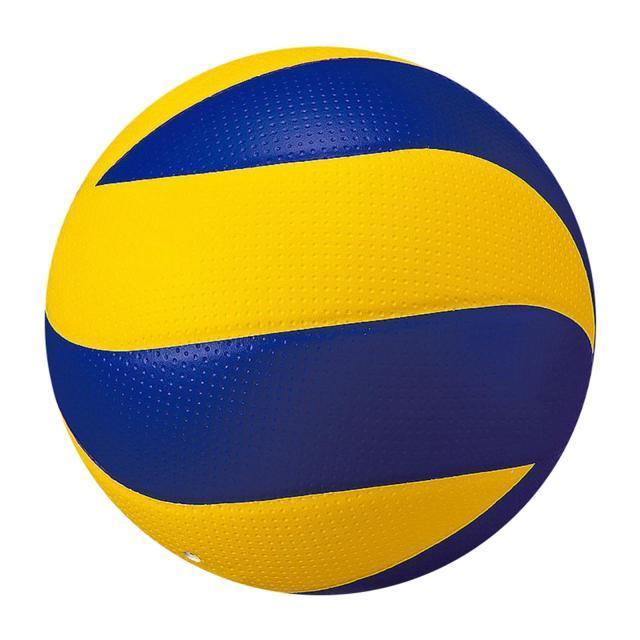volleyball: (43, 46, 598, 596)
